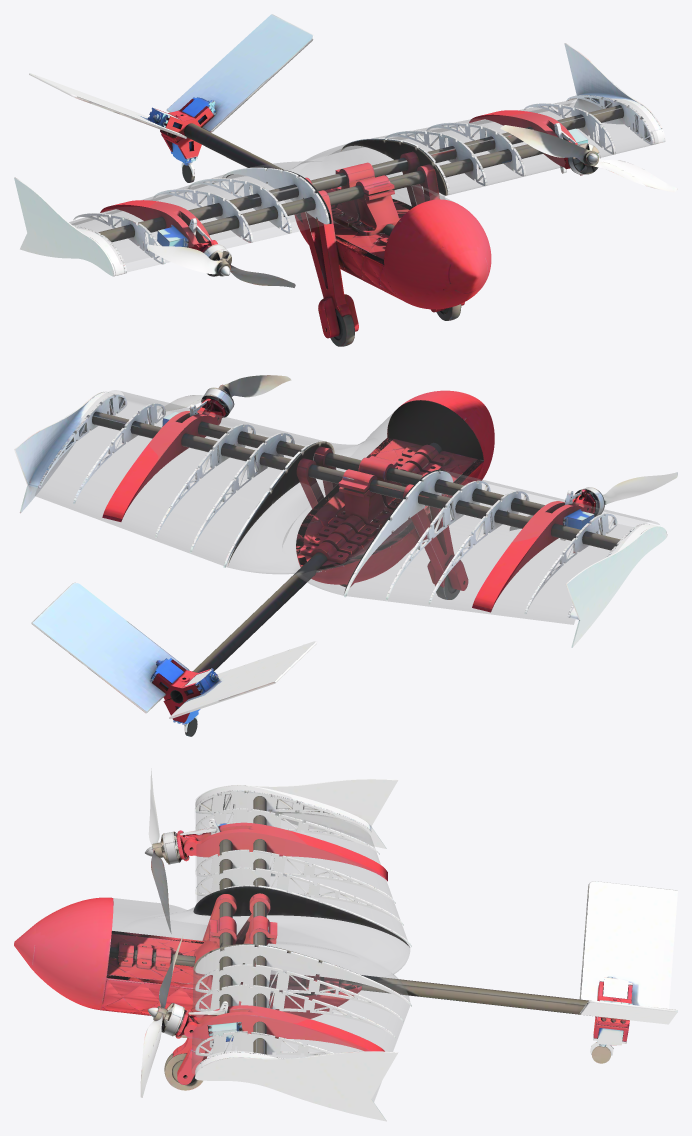
The model's file is micro-2024.glb.
3 views of the same model, one above another, from view 1: azimuth 30°, elevation 25°; view 2: azimuth 150°, elevation 25°; view 3: azimuth 270°, elevation 25° (orthographic).
Visible parts, largest first — view 1: Frame1, Frame1.001; view 2: Frame1, Frame1.001; view 3: Frame1, Frame1.001.
Part boxes in pixels (x1=…): Frame1: x1=14, y1=14, x2=677, y2=346; Frame1.001: x1=69, y1=97, x2=657, y2=271; Frame1: x1=14, y1=375, x2=677, y2=736; Frame1.001: x1=35, y1=390, x2=659, y2=624; Frame1: x1=14, y1=768, x2=677, y2=1121; Frame1.001: x1=107, y1=786, x2=409, y2=1101.
Size of the model in its own units: 0.8574 by 0.2685 by 0.8809.
3 materials, 2 textured.
